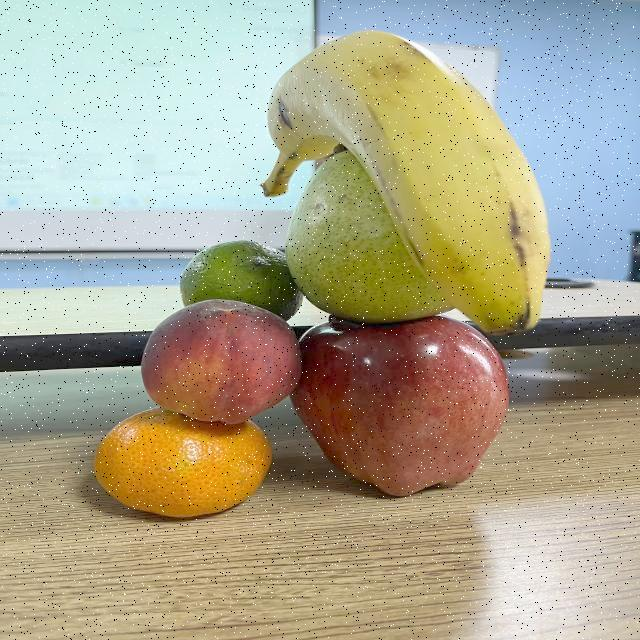Apel Merah: (286, 314, 514, 500)
Jeruk Mandarin: (88, 403, 276, 522)
Lemon: (176, 239, 310, 320)
Persik: (139, 296, 308, 428)
Pir: (284, 137, 464, 325)
Pisang: (254, 29, 554, 339)
